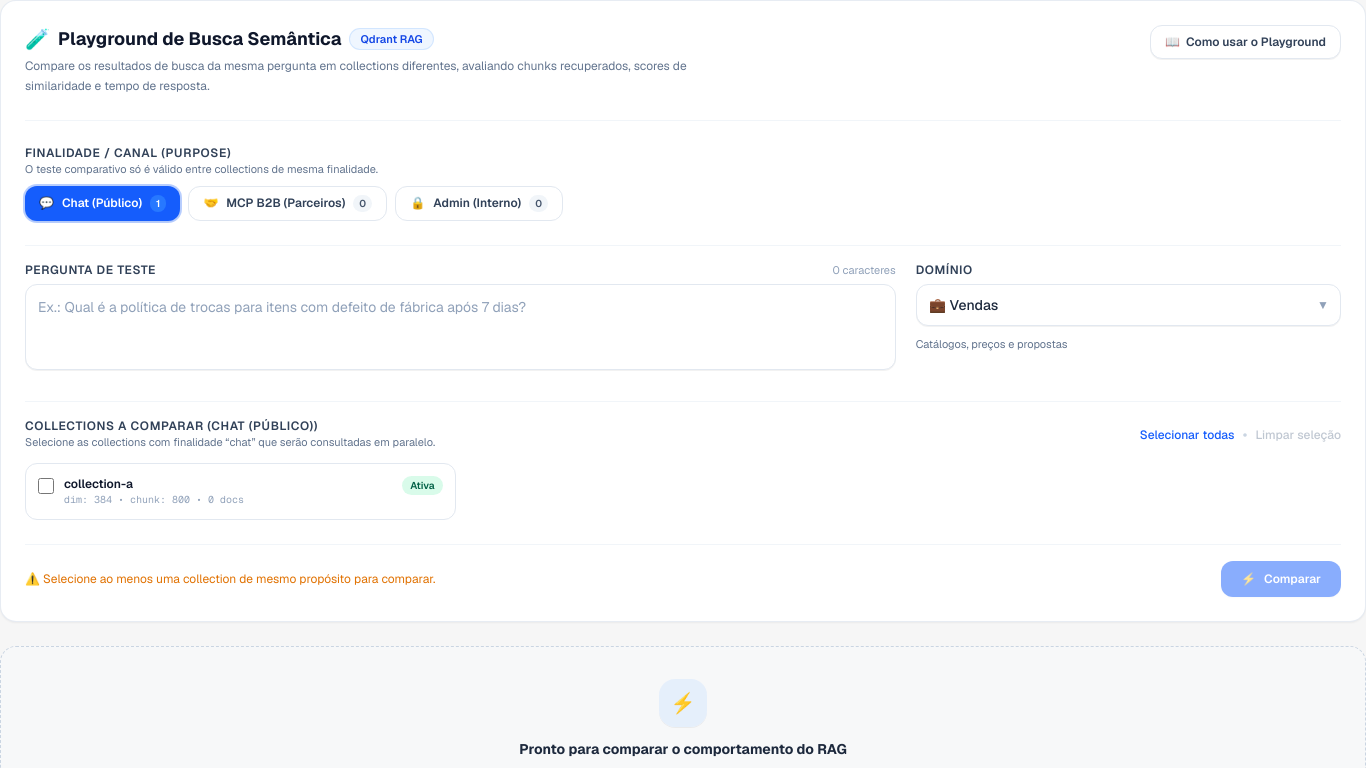
Scenario: PlaygroundPanel › abre e fecha o manual de uso do Playground
// Clica para abrir o modal do manual
Click the button "📖 Como usar o Playground" at point(1246, 42), box [1150, 25, 1341, 59]
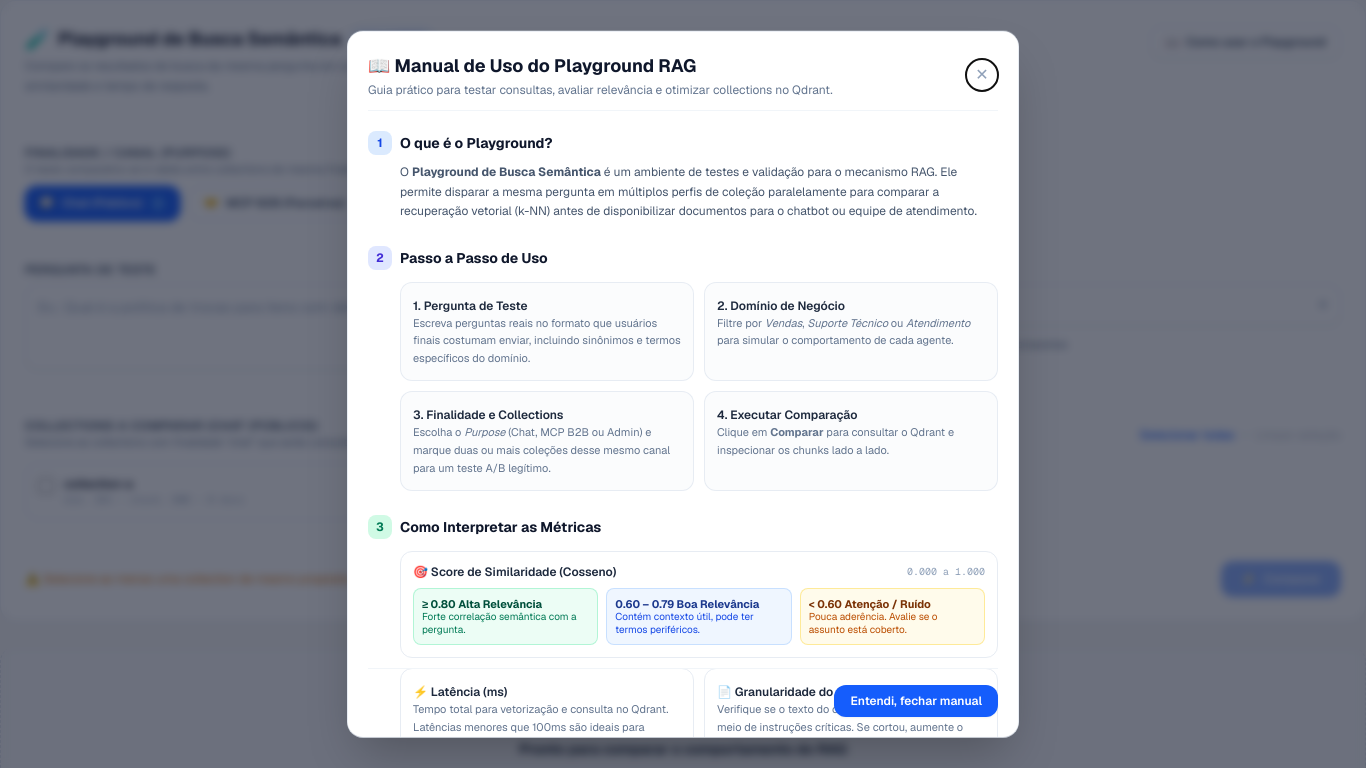
Check: the text "📖 Manual de Uso do Playground RAG" is shown, box [368, 54, 696, 77]
Check: the heading "O que é o Playground?" is shown, box [400, 133, 552, 153]
Check: the text "🎯 Score de Similaridade (Cosseno)" is shown, box [413, 564, 616, 580]
// Fecha o modal
Click the button "Entendi, fechar manual" at point(916, 700), box [834, 684, 998, 716]
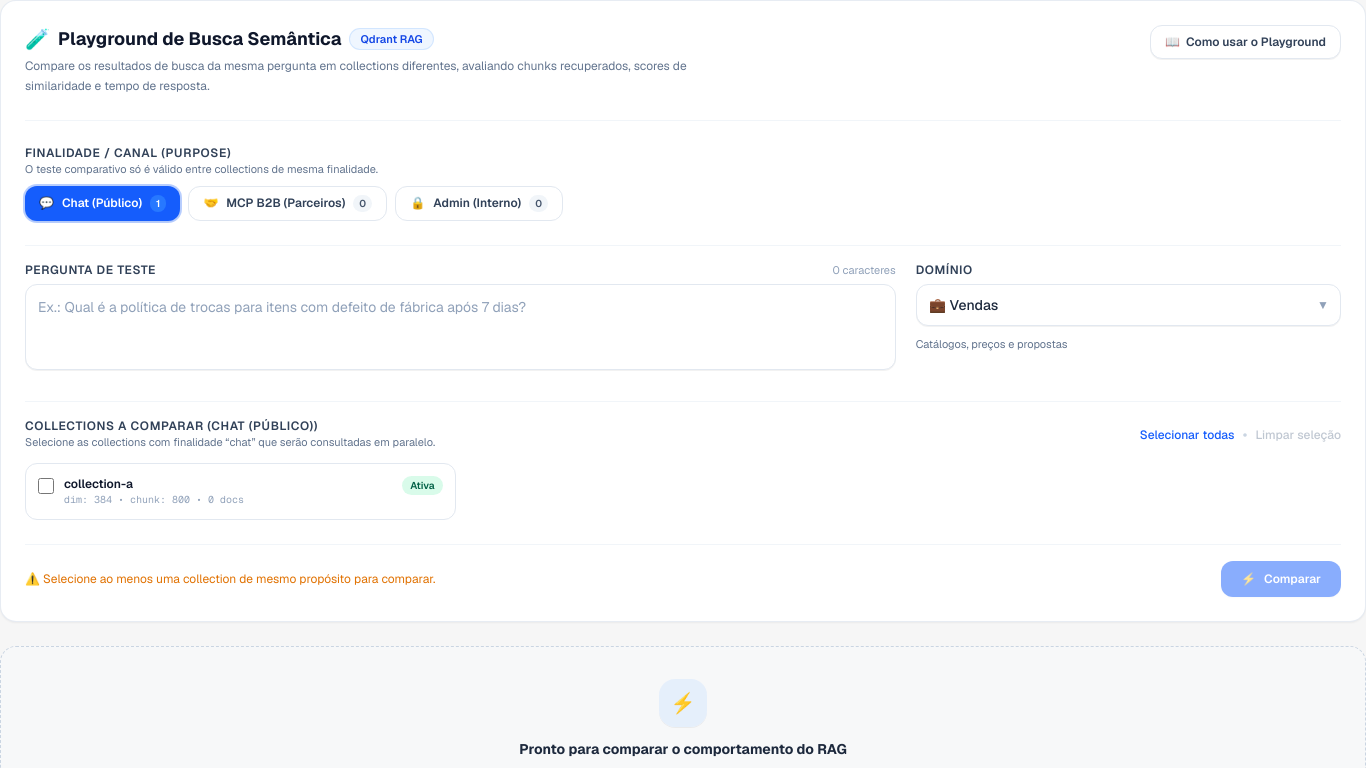
Check: the text "📖 Manual de Uso do Playground RAG" is gone
